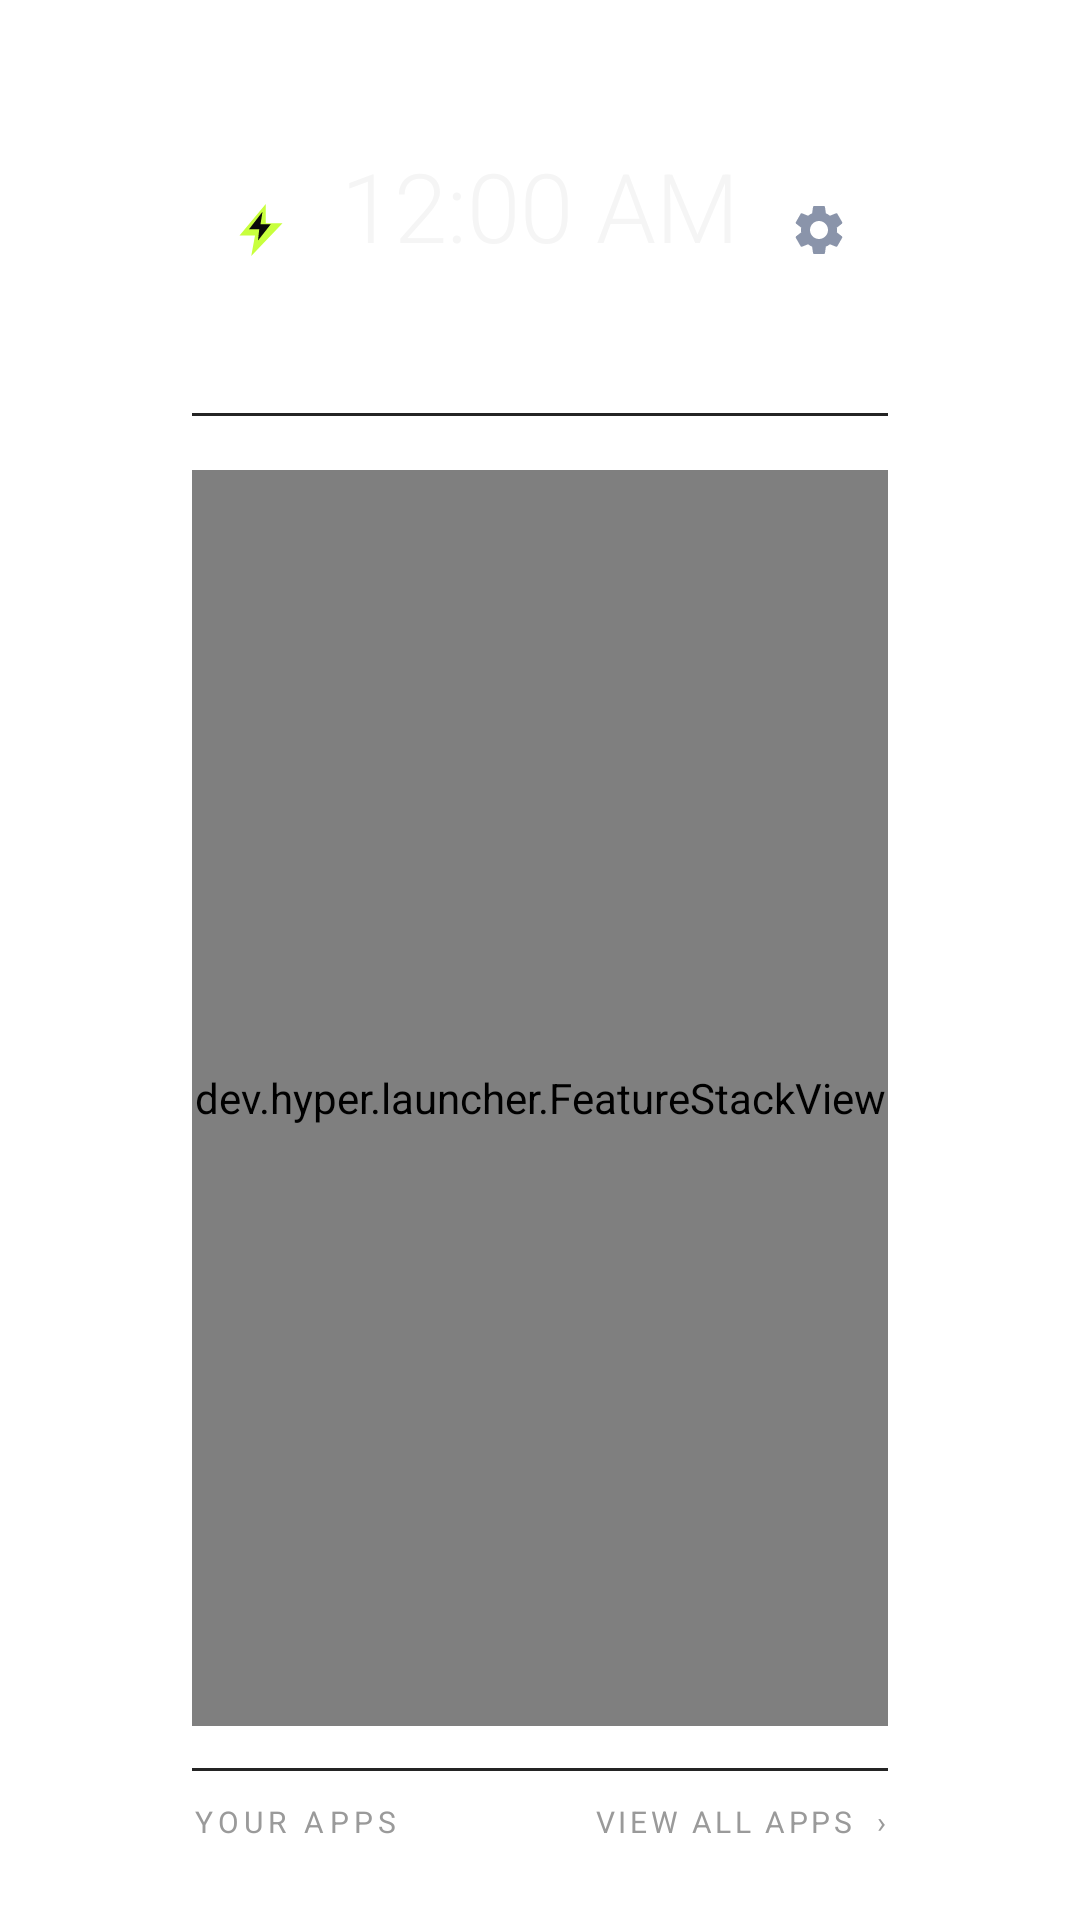

Point at icon controls on the screen. Image size 1080 x 1920, points as [x,y].
System settings: [819,230]
